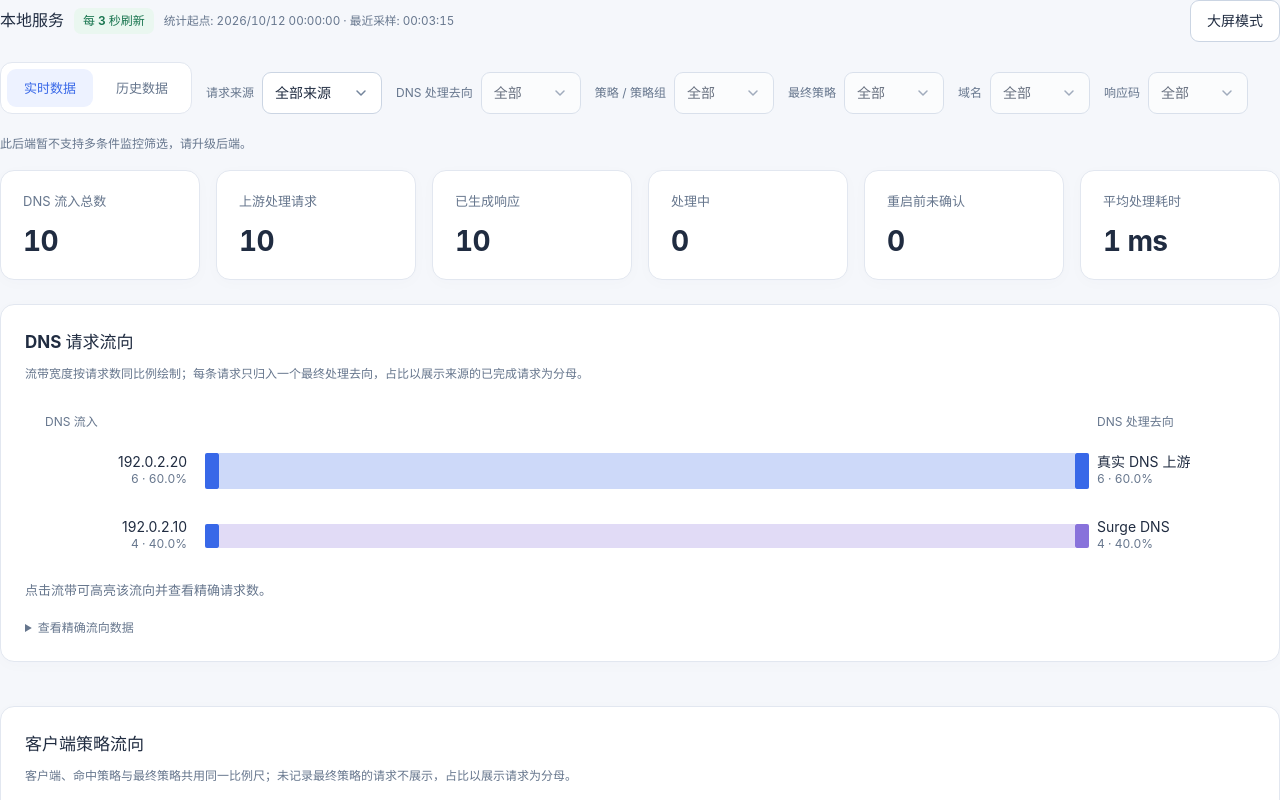
ignores an old source response after selection changes
Select "192.0.2.10" in the dropdown labelled "请求来源". click: (322, 93)
box: [262,72,382,114]
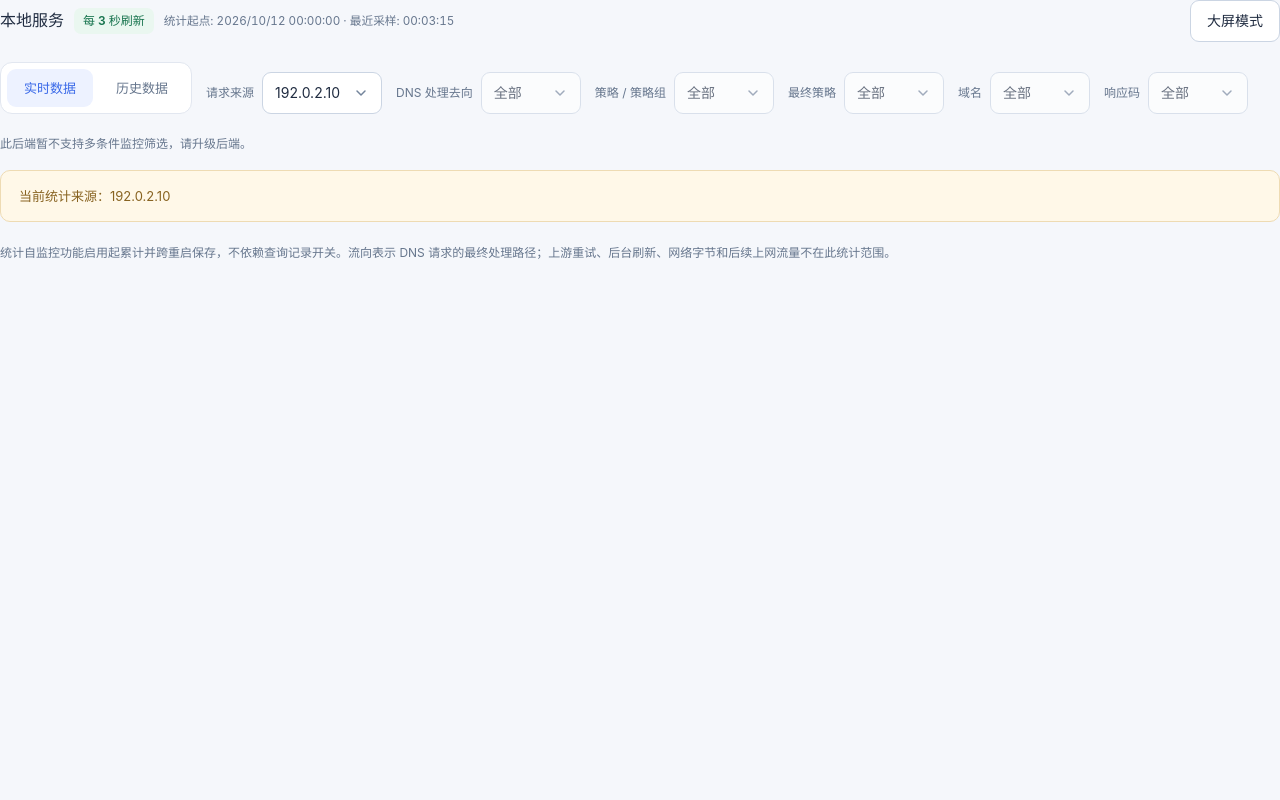
Select "192.0.2.20" in the dropdown labelled "请求来源". click: (322, 93)
box: [262,72,382,114]
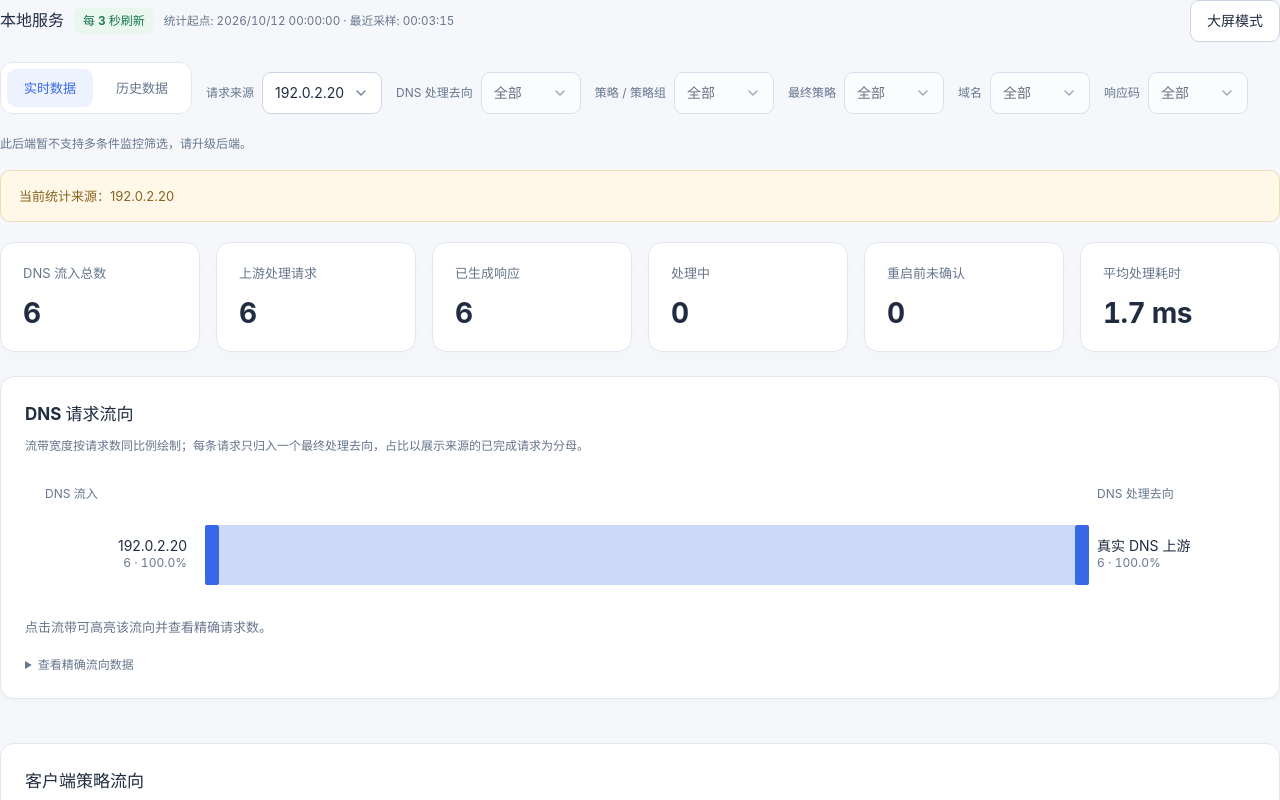
Now the text "当前统计来源：192.0.2.20" is shown, box [0,170,1279,222]
